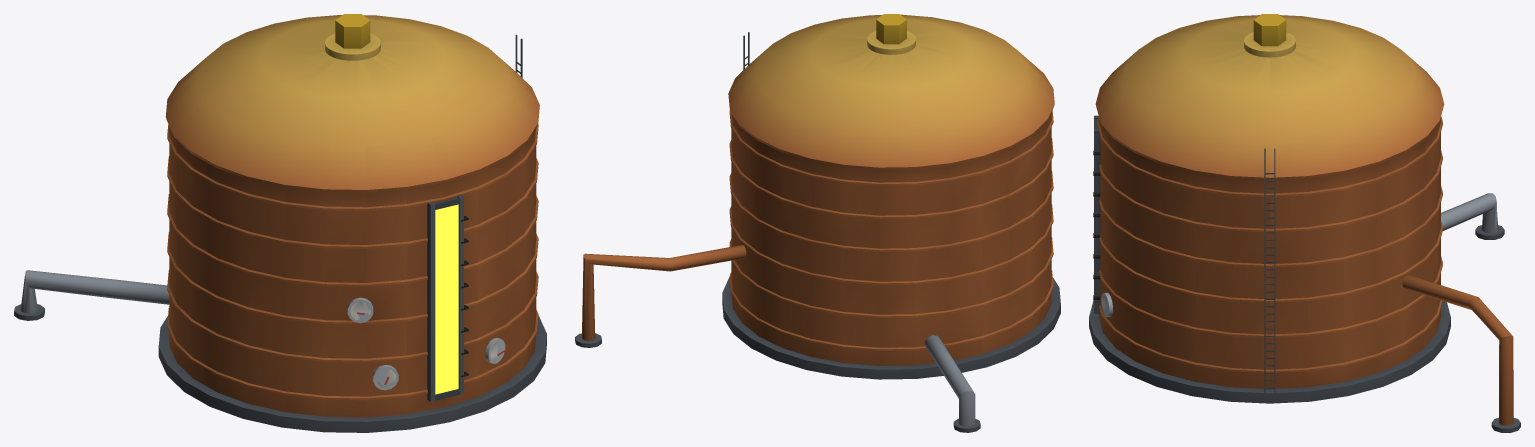
Rendered from prop.honey_tank.glb.
The picture shows the model from 3 angles, left to right: view 1: azimuth 30°, elevation 25°; view 2: azimuth 150°, elevation 25°; view 3: azimuth 270°, elevation 25°; orthographic projection. The views are drawn at different scales.
Visible parts, largest first — view 1: honey_tank; view 2: honey_tank; view 3: honey_tank.
Boxes of the visible parts, box(x1,y1,x2,y2) form: honey_tank: box(14, 14, 546, 432); honey_tank: box(575, 14, 1060, 432); honey_tank: box(1089, 14, 1520, 432).
Bounding box in the file's own units: 29.71 × 20.8 × 26.5.
